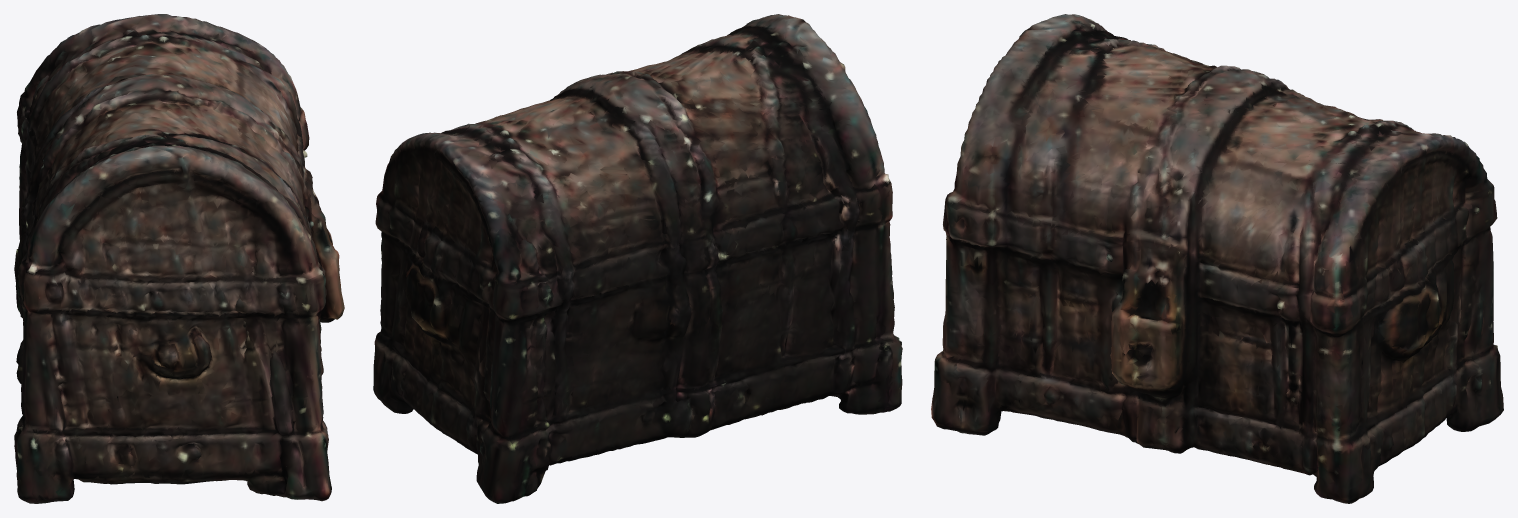
File: hammered-iron-chest-v01.glb
3 views of the same model, side by side, from view 1: azimuth 30°, elevation 25°; view 2: azimuth 150°, elevation 25°; view 3: azimuth 270°, elevation 25° (orthographic). The views are drawn at different scales.
Parts seen in each view (by area): view 1: hammered-iron-chest; view 2: hammered-iron-chest; view 3: hammered-iron-chest.
Boxes of the visible parts, box(x1,y1,x2,y2) form: hammered-iron-chest: box(14, 14, 344, 503); hammered-iron-chest: box(373, 14, 902, 503); hammered-iron-chest: box(931, 14, 1503, 503).
Bounding box in the file's own units: 1.31 × 1.05 × 1.55.
1 material, 1 textured.
